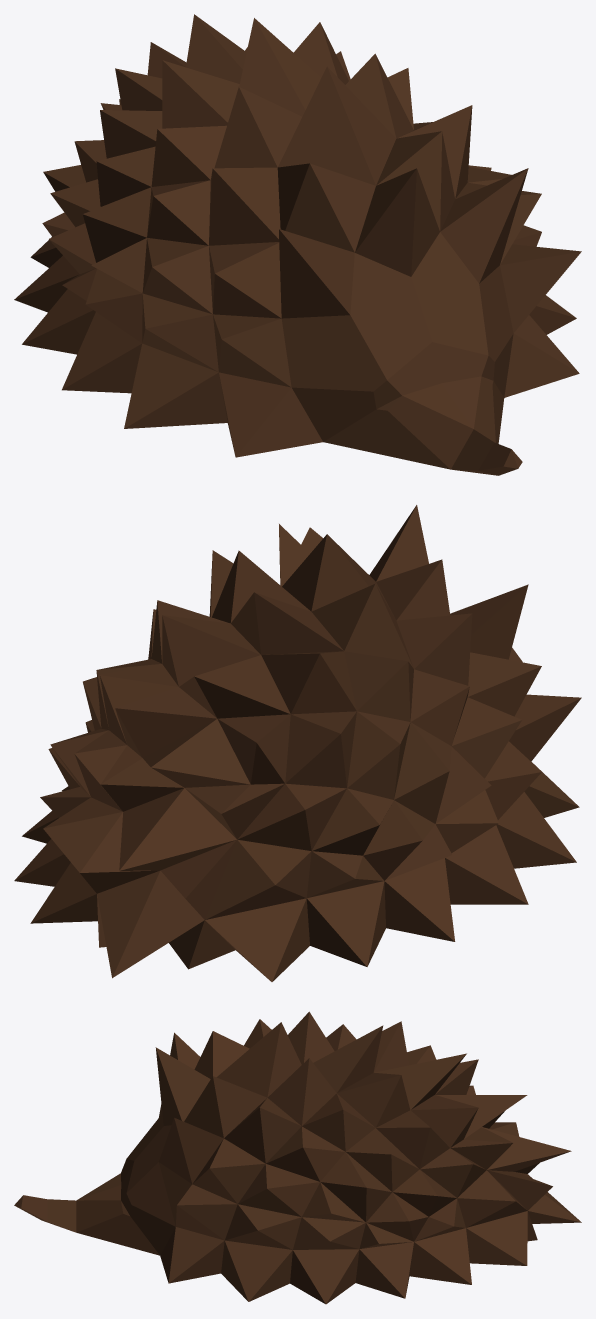
File: Hedgehog.FBX
The picture shows the model from 3 angles, top to bottom: view 1: azimuth 30°, elevation 25°; view 2: azimuth 150°, elevation 25°; view 3: azimuth 270°, elevation 25°; orthographic projection. The views are drawn at different scales.
Visible parts, largest first — view 1: Box003; view 2: Box003; view 3: Box003.
Boxes of the visible parts, <box> form: Box003: <box>14,14,581,475</box>; Box003: <box>14,505,581,981</box>; Box003: <box>14,1011,581,1304</box>.
Size of the model in its own units: 101 by 59.86 by 152.
